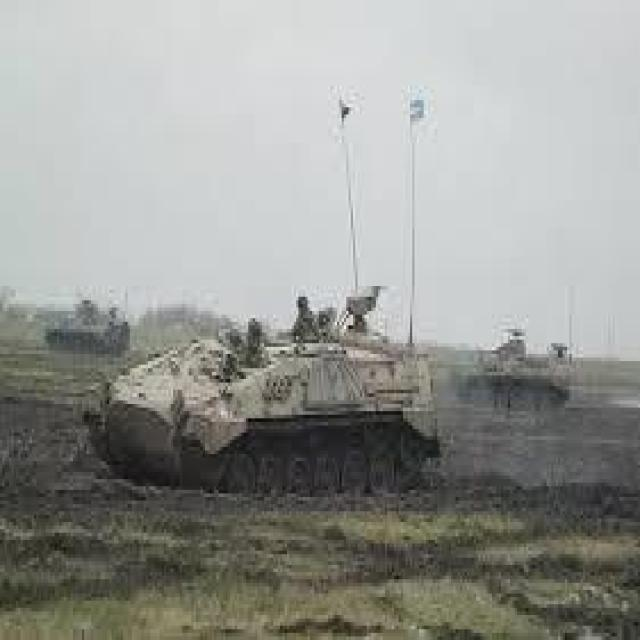Tanks: (98, 323, 446, 510), (454, 336, 570, 418), (48, 293, 130, 354)
